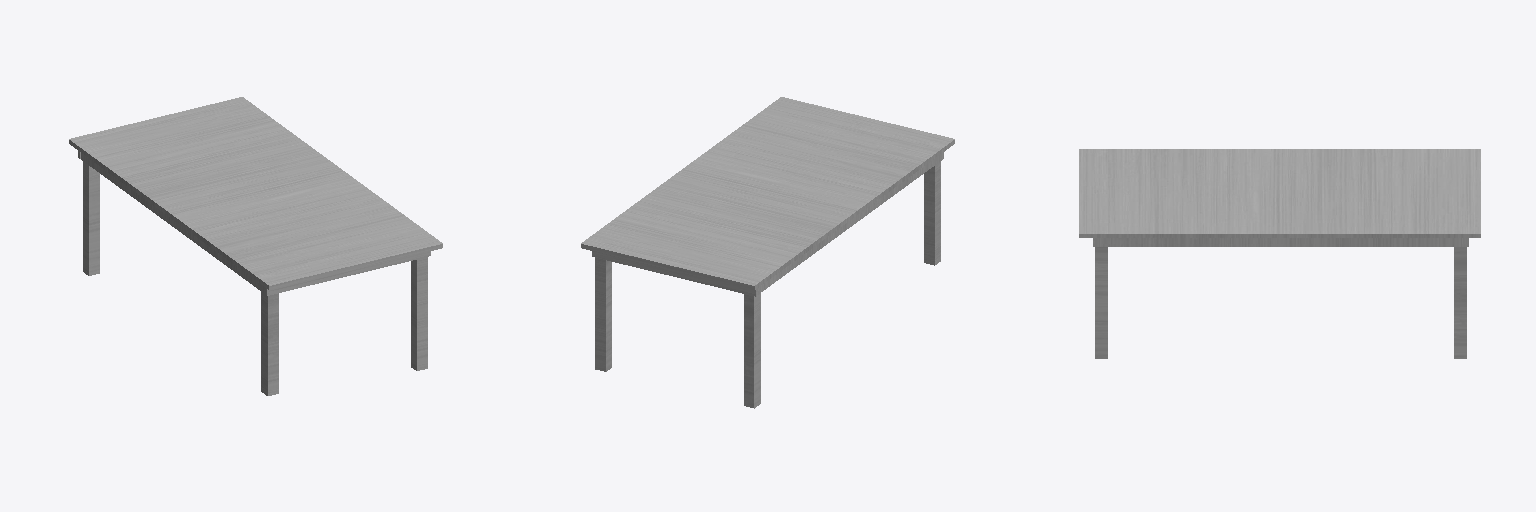
The picture shows the model from 3 angles: view 1: azimuth 30°, elevation 25°; view 2: azimuth 150°, elevation 25°; view 3: azimuth 270°, elevation 25°; orthographic projection.
Visible parts, largest first — view 1: pCube1; view 2: pCube1; view 3: pCube1.
Boxes of the visible parts, x1=… form: pCube1: x1=69, y1=97, x2=442, y2=395; pCube1: x1=581, y1=97, x2=954, y2=408; pCube1: x1=1079, y1=149, x2=1480, y2=358.
Size of the model in its own units: 1 by 0.7107 by 2.
1 materials, 1 textured.